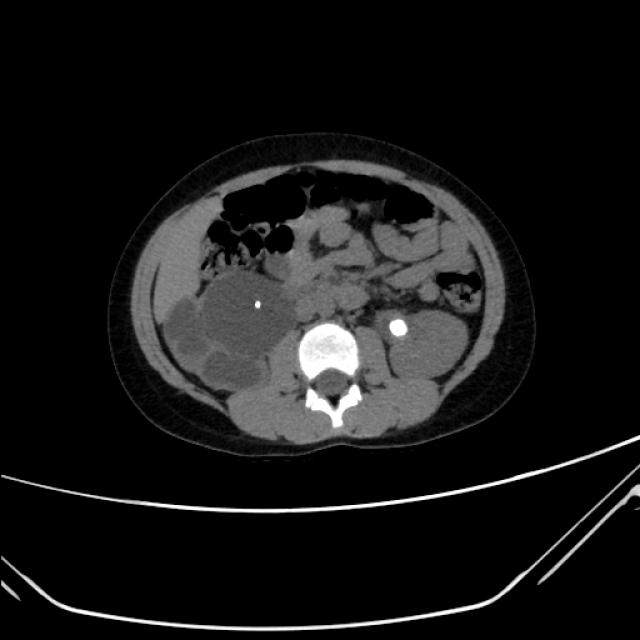kidney: (202, 266, 300, 354), (379, 309, 469, 378)
stone: (388, 317, 409, 339), (251, 296, 266, 310)
